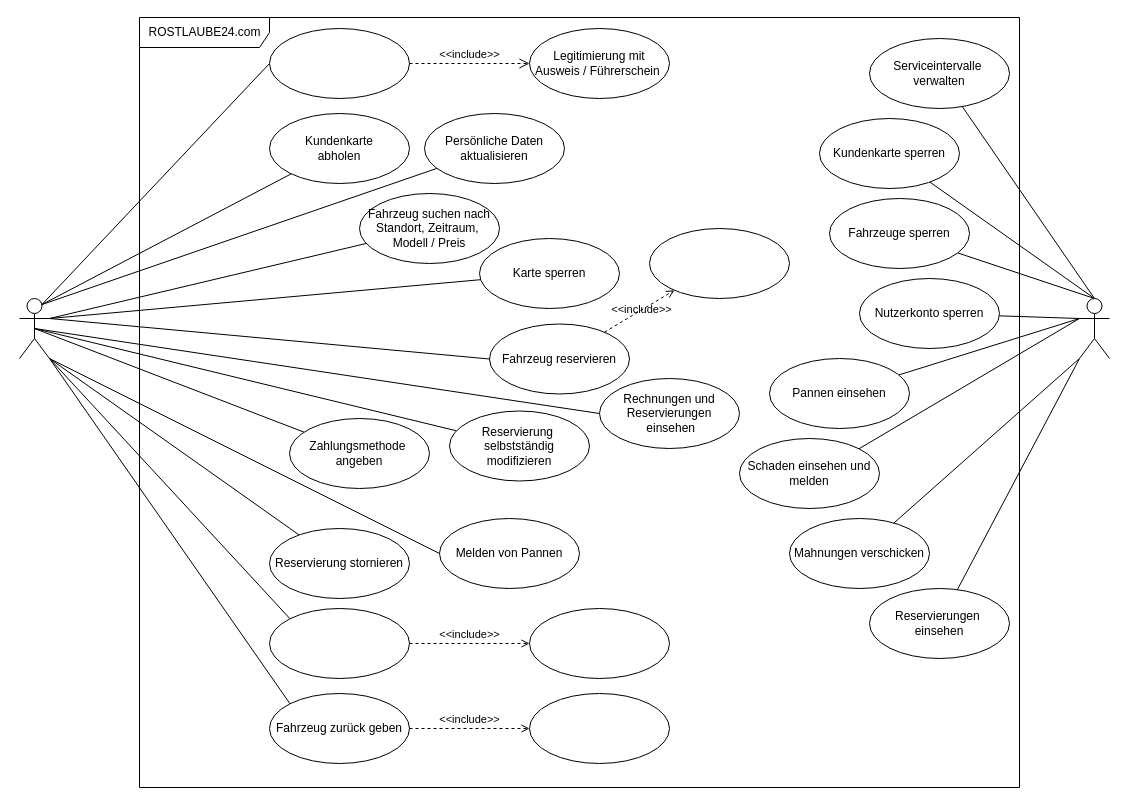
The diagram is 1135 pixels wide and 805 high, and some of its shapes have lost their labels. The shapes that lost their labels are listed below. From the top down, each one's centre as x and y in pixels, then its label:
At (x=339, y=63): "Registrierung als Nutzer".
At (x=719, y=263): "Fahrzeug suchen".
At (x=34, y=328): "Kunde".
At (x=1094, y=328): "Mitarbeit".
At (x=339, y=643): "Fahrzeug abholen".
At (x=599, y=643): "Fahrzeug öffnen".
At (x=599, y=728): "Fahrzeug verschließen".
